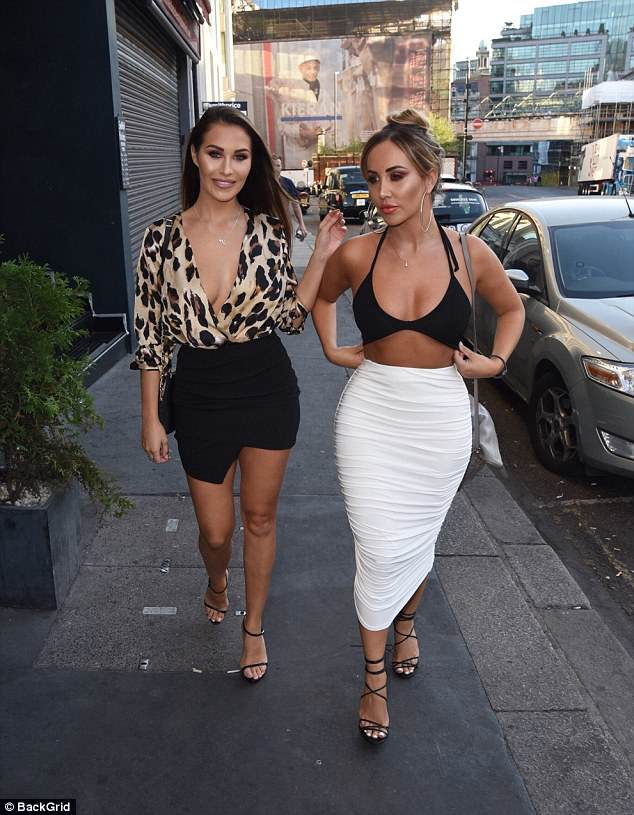Person: (312, 83, 532, 742), (122, 91, 349, 693)
